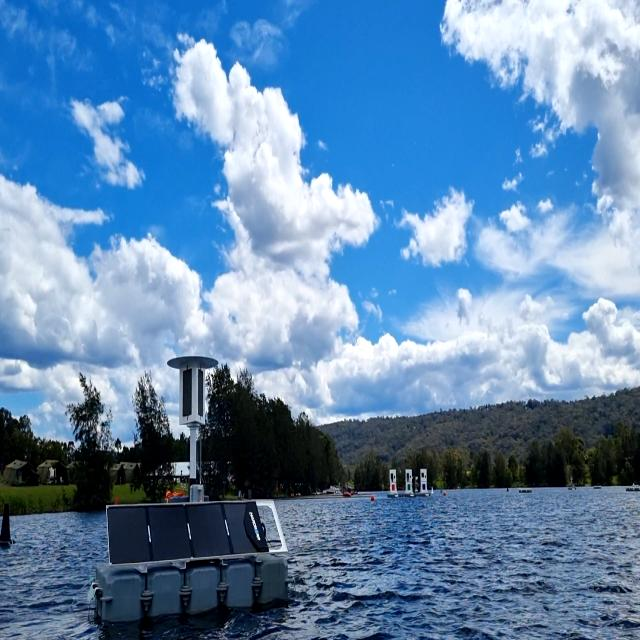led: (181, 367, 193, 420), (196, 364, 204, 420)
